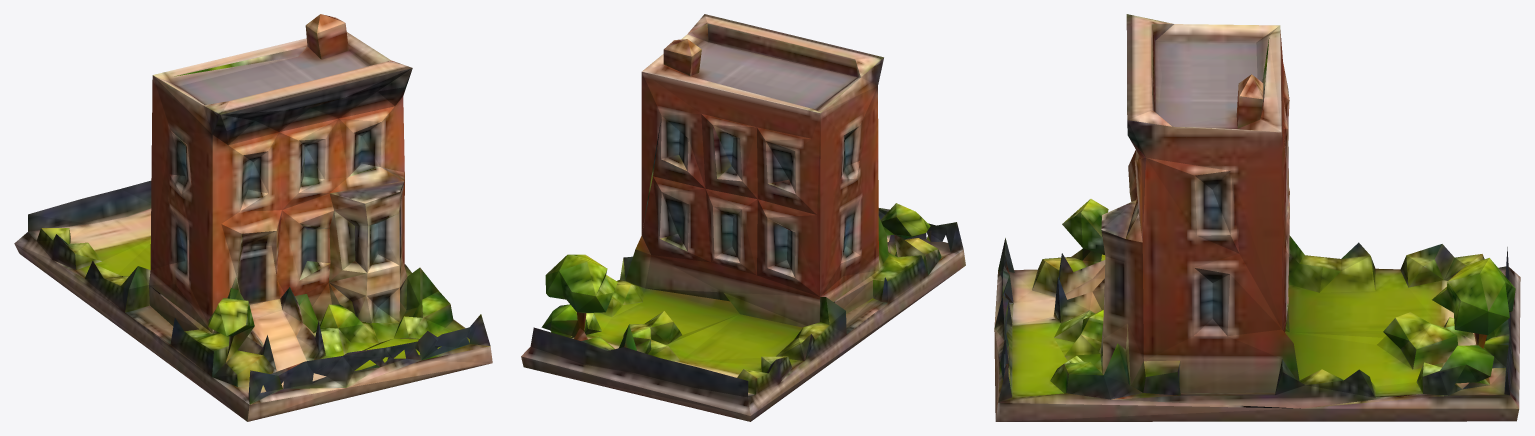
The model's file is house-townhouse.far.glb.
3 renders of one model, left to right at view 1: azimuth 30°, elevation 25°; view 2: azimuth 150°, elevation 25°; view 3: azimuth 270°, elevation 25°, orthographic. The views are drawn at different scales.
Parts seen in each view (by area): view 1: low; view 2: low; view 3: low.
Part boxes in pixels (x1,y1,x2,y2): low: (14, 14, 492, 421); low: (521, 14, 965, 421); low: (994, 14, 1520, 421).
Size of the model in its own units: 0.5963 by 0.6468 by 0.9772.
Materials: 1 (1 with a texture image).
